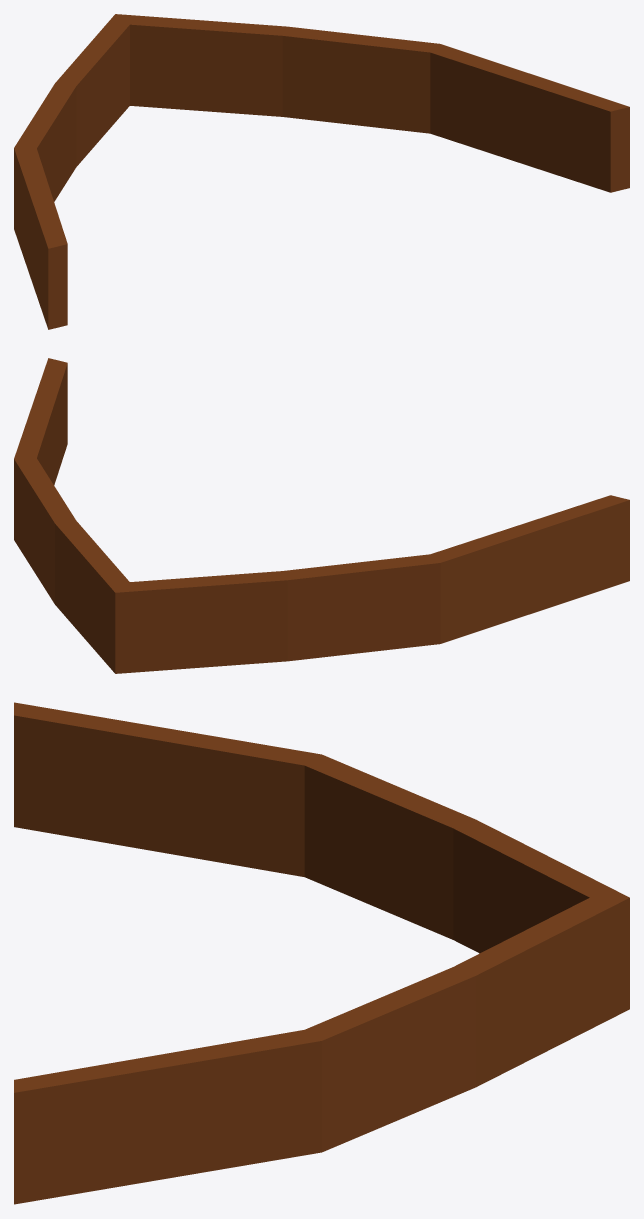
File: TOP_BOW.obj
3 renders of one model, top to bottom at view 1: azimuth 30°, elevation 25°; view 2: azimuth 150°, elevation 25°; view 3: azimuth 270°, elevation 25°, orthographic. The views are drawn at different scales.
Bounding box in the file's own units: 6 × 0.8 × 4.
